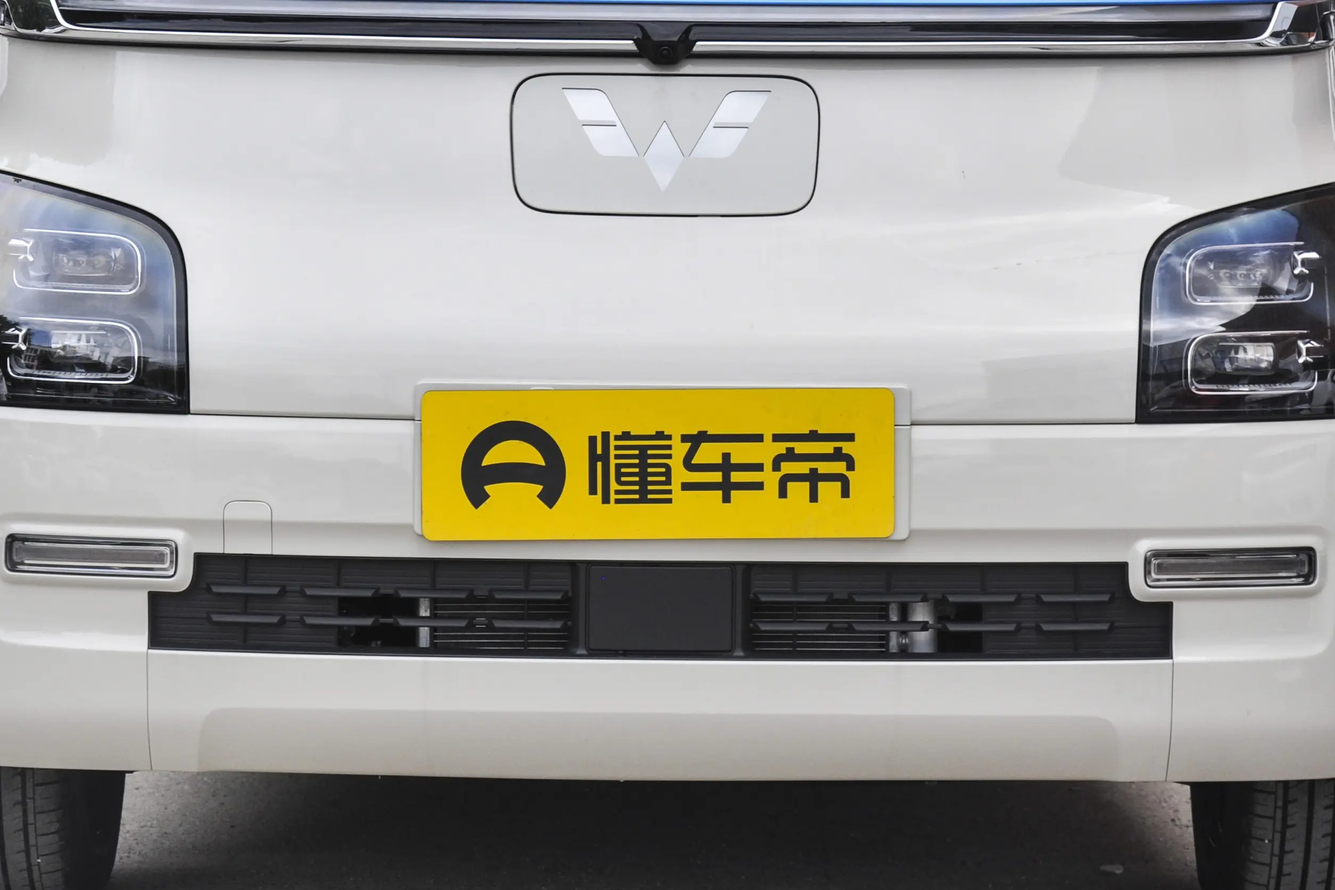SGMW: (562, 88, 771, 191)
